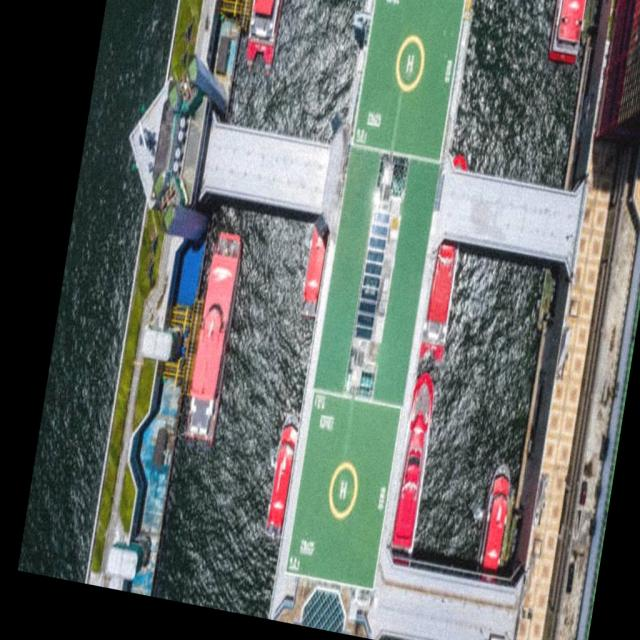helipad: (393, 32, 425, 92), (327, 460, 359, 520)
